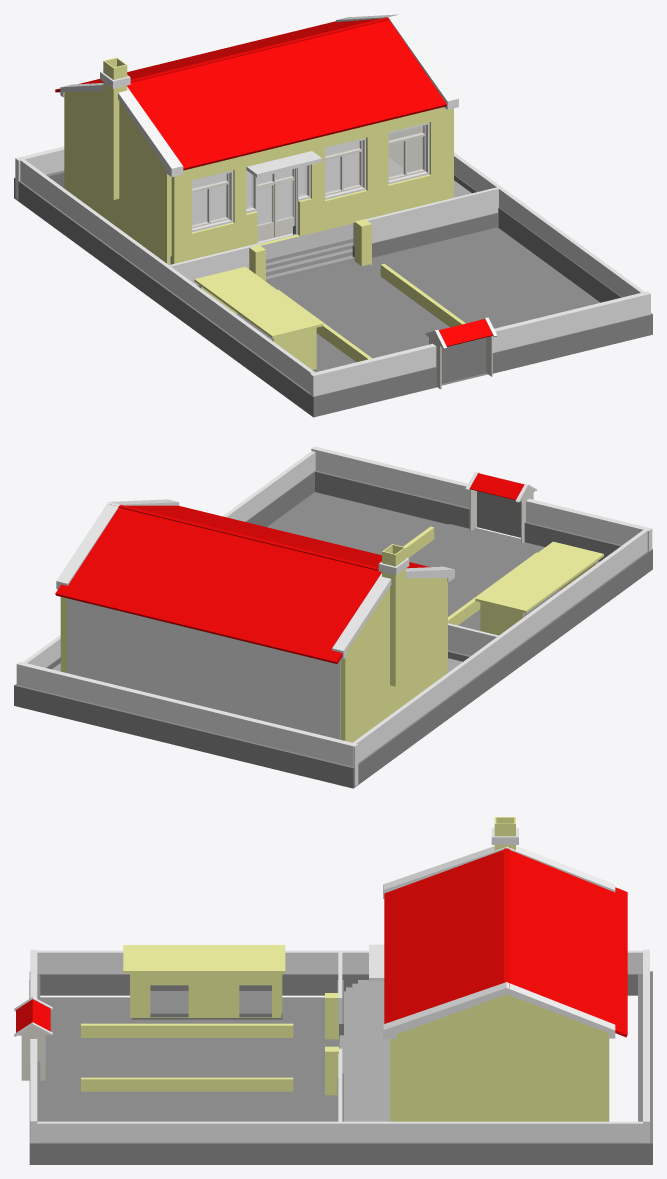
The model's file is bieshu.fbx.
3 views of the same model, one above another, from view 1: azimuth 30°, elevation 25°; view 2: azimuth 150°, elevation 25°; view 3: azimuth 270°, elevation 25° (orthographic). The views are drawn at different scales.
Visible parts, largest first — view 1: yuanzi, house; view 2: house, yuanzi; view 3: yuanzi, house.
Part boxes in pixels (x1,y1,x2,y2): yuanzi: (14,142,652,417); house: (55,14,458,264); house: (55,499,454,742); yuanzi: (14,446,652,788); yuanzi: (14,945,652,1164); house: (369,817,627,1121).
Size of the model in its own units: 4567 by 2349 by 7152.
